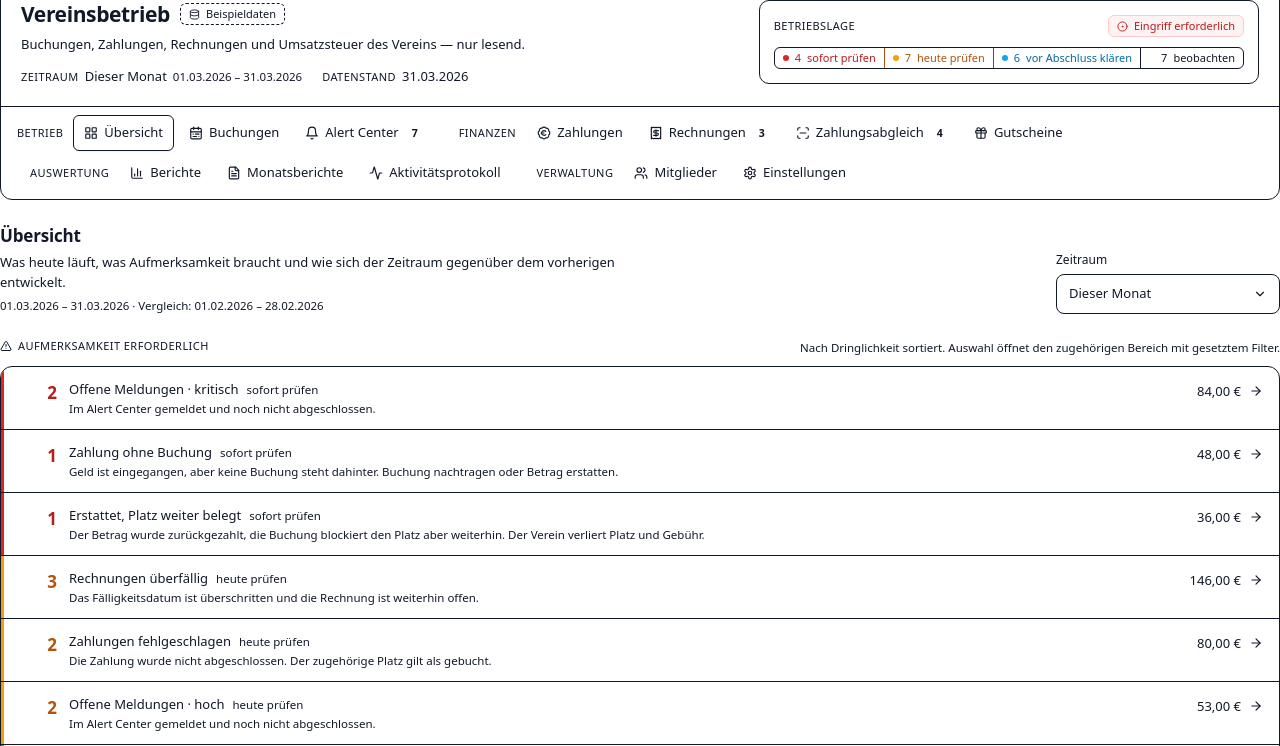
bookings section › renders long German names without truncating the underlying text
What coordinates should you click on to do the following:
click the button "Buchungen"
I would click on:
 (234, 133)
Its box is x1=178 y1=115 x2=290 y2=151.
(page scrolled)
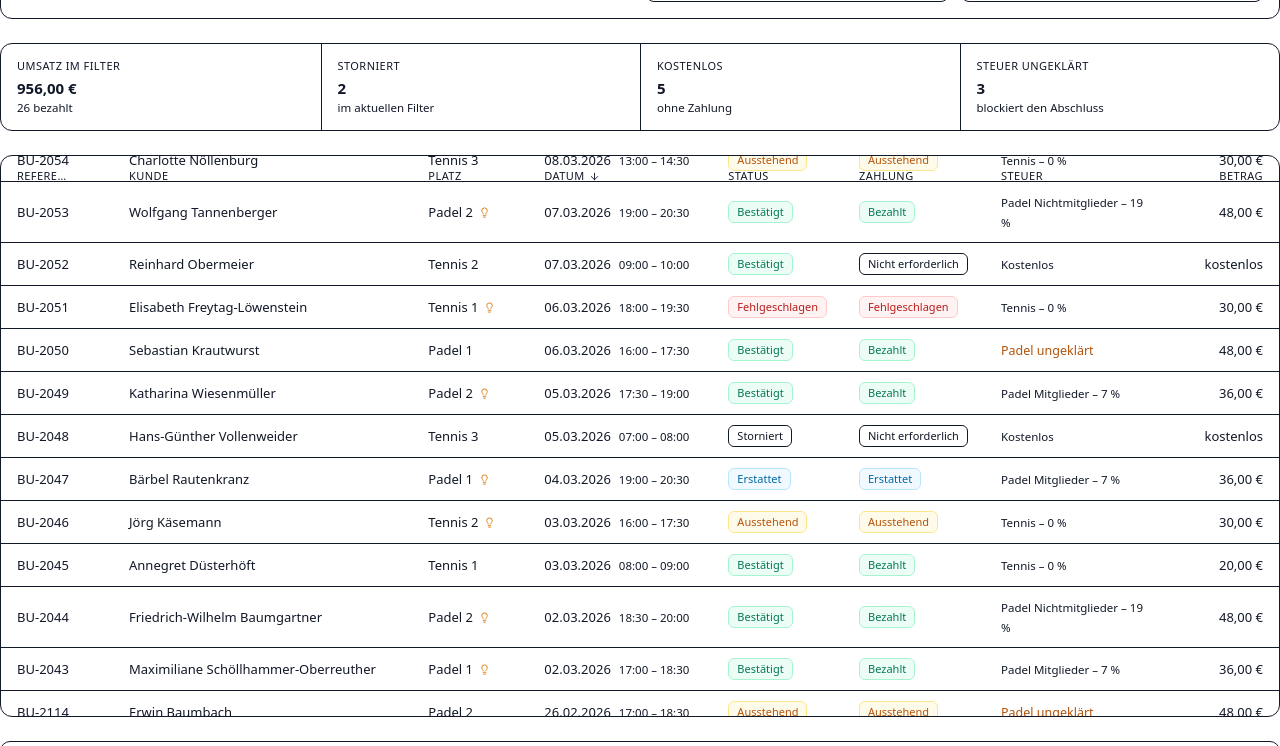
Result: the text "Maximiliane Schöllhammer-Oberreuther" is shown at x1=129 y1=660 x2=376 y2=678
Result: the text "Hans-Günther Vollenweider" is shown at x1=129 y1=427 x2=298 y2=445
